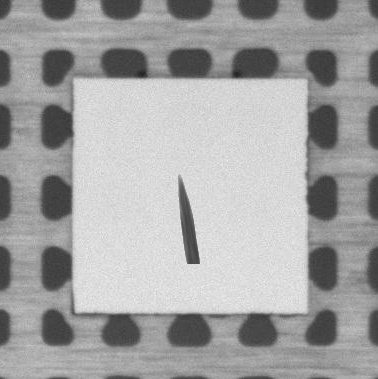DIE_INK: (175, 172, 202, 264)
